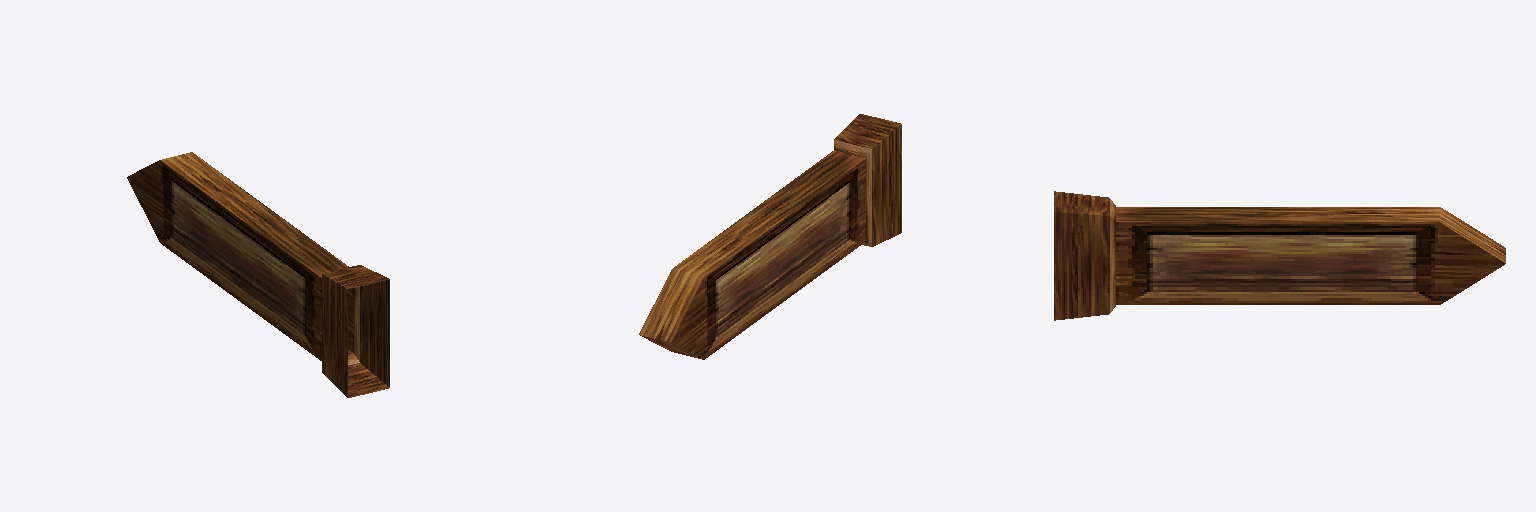
3 views of the same model, side by side, from view 1: azimuth 30°, elevation 25°; view 2: azimuth 150°, elevation 25°; view 3: azimuth 270°, elevation 25° (orthographic).
Parts seen in each view (by area): view 1: object 1; view 2: object 1; view 3: object 1.
Boxes of the visible parts, x1=… form: object 1: x1=127, y1=152, x2=389, y2=397; object 1: x1=639, y1=114, x2=901, y2=359; object 1: x1=1054, y1=191, x2=1505, y2=320.
Bounding box in the file's own units: 0.1806 × 0.4442 × 1.67.
1 materials, 1 textured.